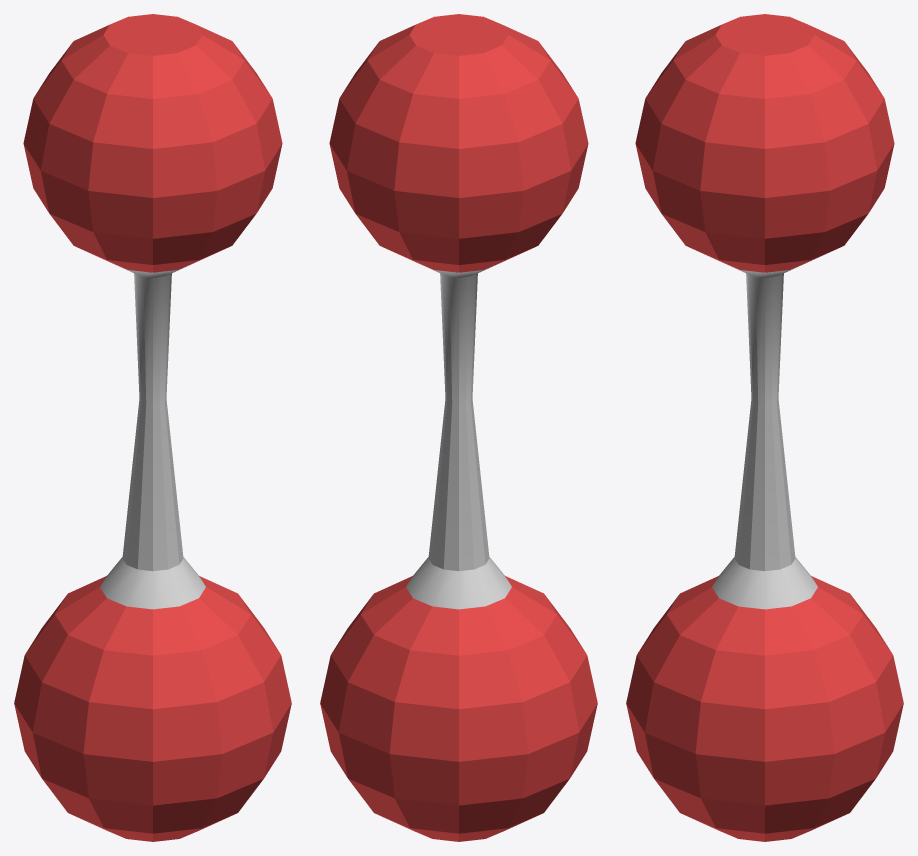
File: Molocule_small.fbx
3 renders of one model, left to right at view 1: azimuth 30°, elevation 25°; view 2: azimuth 150°, elevation 25°; view 3: azimuth 270°, elevation 25°, orthographic.
Visible parts, largest first — view 1: Molocule_3; view 2: Molocule_3; view 3: Molocule_3.
Part boxes in pixels (x1=…): Molocule_3: x1=14, y1=14, x2=291, y2=841; Molocule_3: x1=320, y1=14, x2=597, y2=841; Molocule_3: x1=626, y1=14, x2=903, y2=841.
Bounding box in the file's own units: 6.42 × 20 × 6.42.
